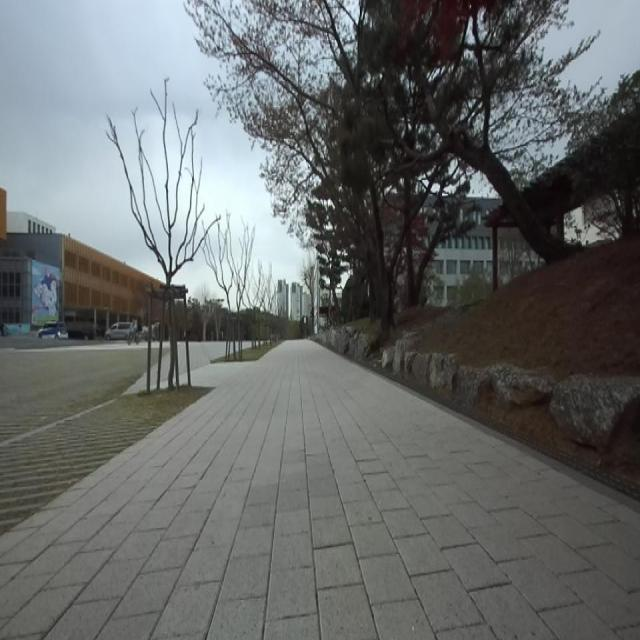sidewalk: (0, 340, 640, 639)
